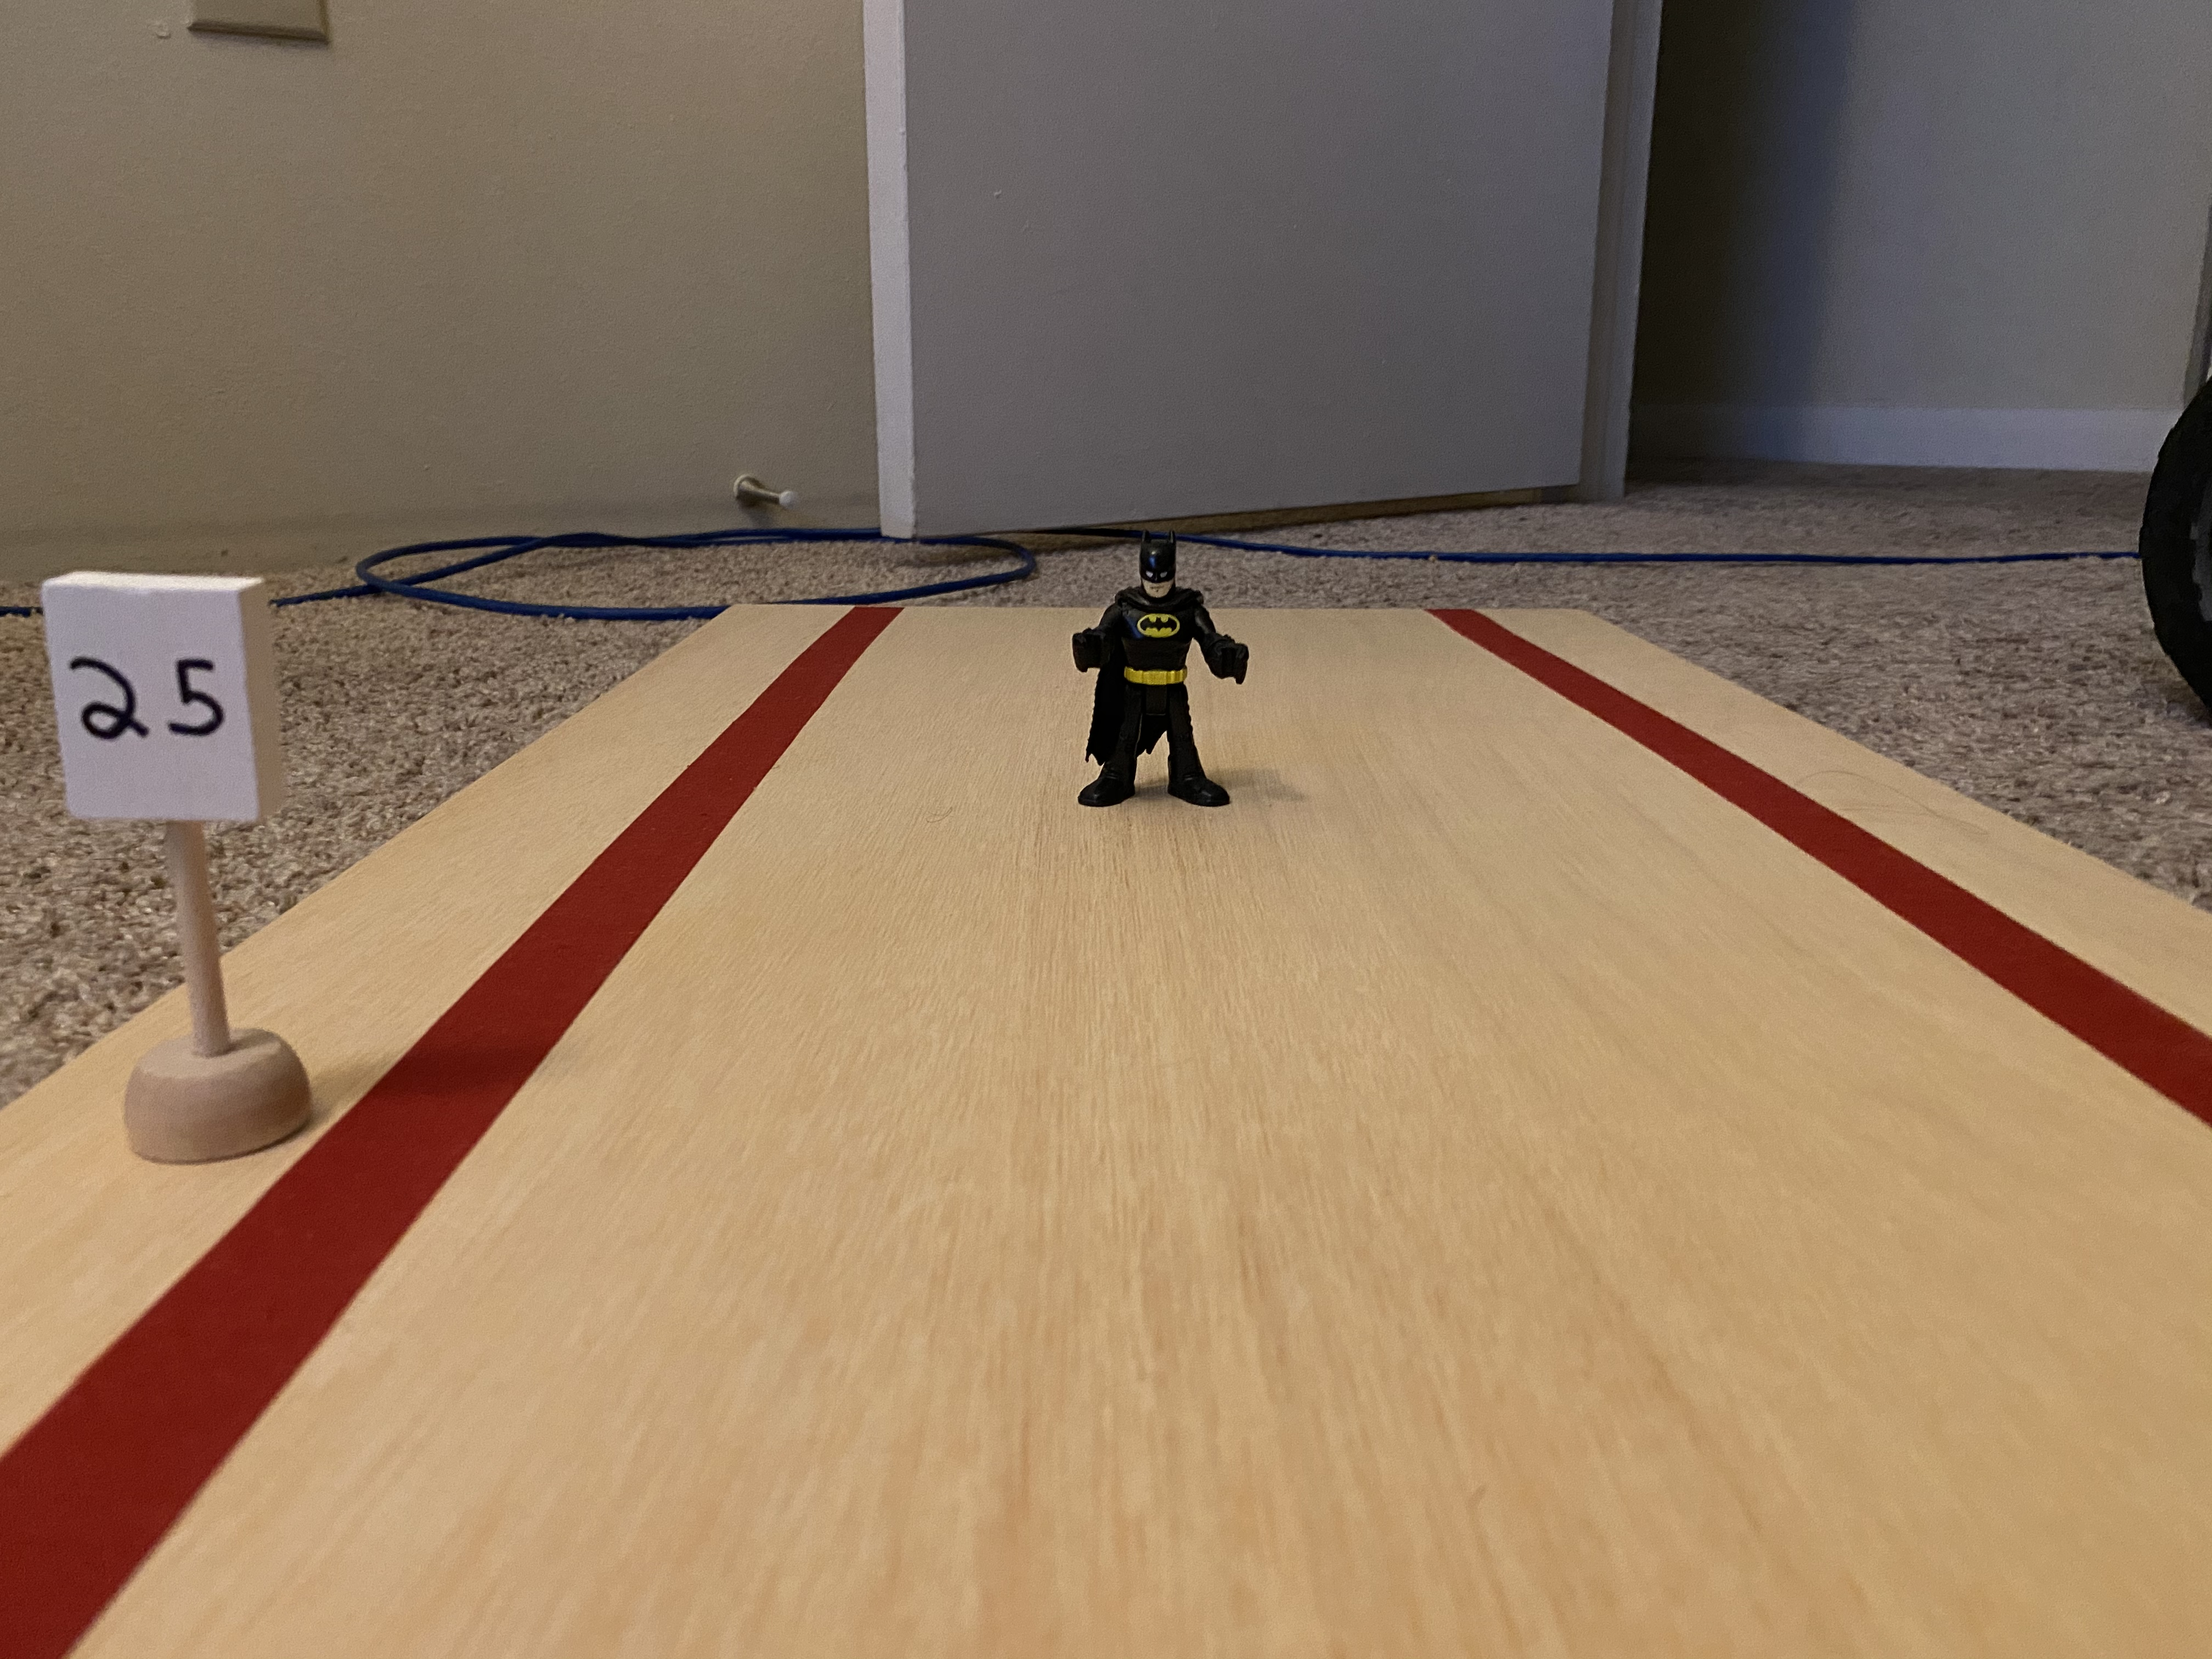Person: (1033, 532, 1284, 811)
Speed Limit 25: (31, 564, 287, 830)
